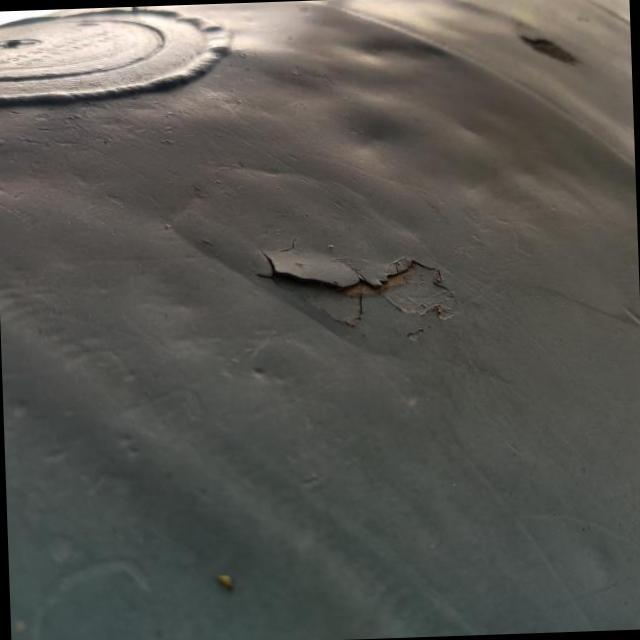Dent: (316, 85, 441, 184), (331, 10, 461, 84)
Rupture: (238, 226, 463, 332)
